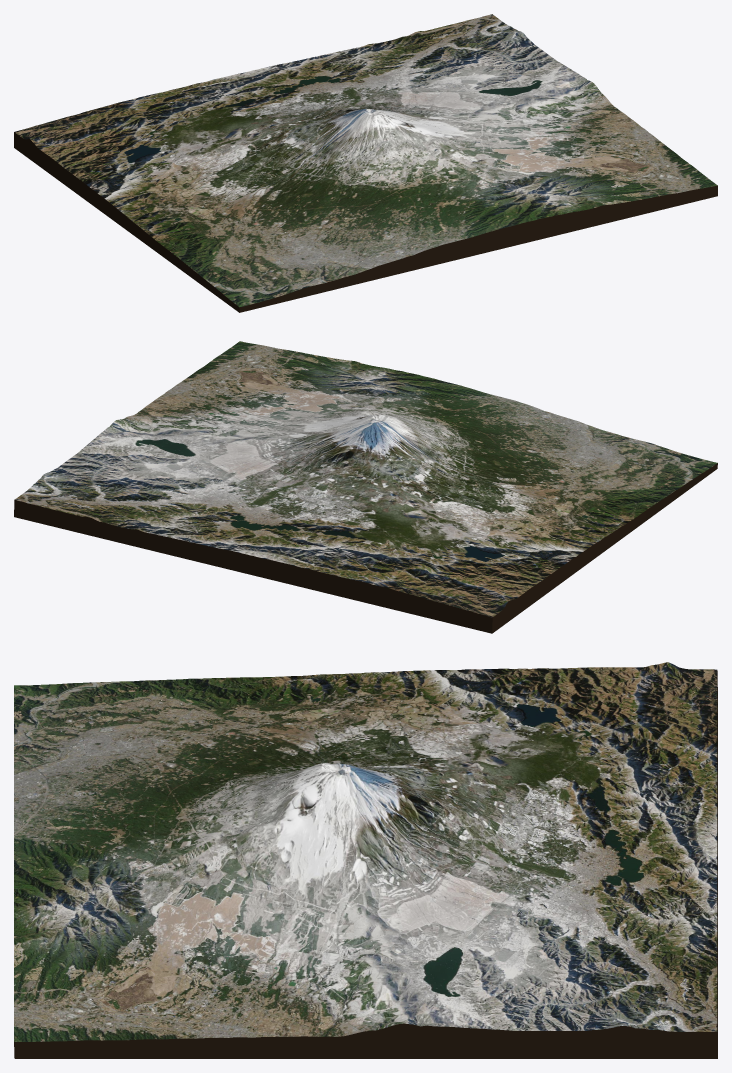
File: Fuji.fbx
3 renders of one model, top to bottom at view 1: azimuth 30°, elevation 25°; view 2: azimuth 150°, elevation 25°; view 3: azimuth 270°, elevation 25°, orthographic. The views are drawn at different scales.
Visible parts, largest first — view 1: EXPORT_GOOGLE_SAT_WM; view 2: EXPORT_GOOGLE_SAT_WM; view 3: EXPORT_GOOGLE_SAT_WM.
Part boxes in pixels (box(x1,y1,x2,y2)): EXPORT_GOOGLE_SAT_WM: box(14, 14, 717, 312); EXPORT_GOOGLE_SAT_WM: box(14, 341, 717, 633); EXPORT_GOOGLE_SAT_WM: box(14, 662, 717, 1058).
Size of the model in its own units: 1498923 by 204015 by 1223920.
2 materials, 1 textured.
